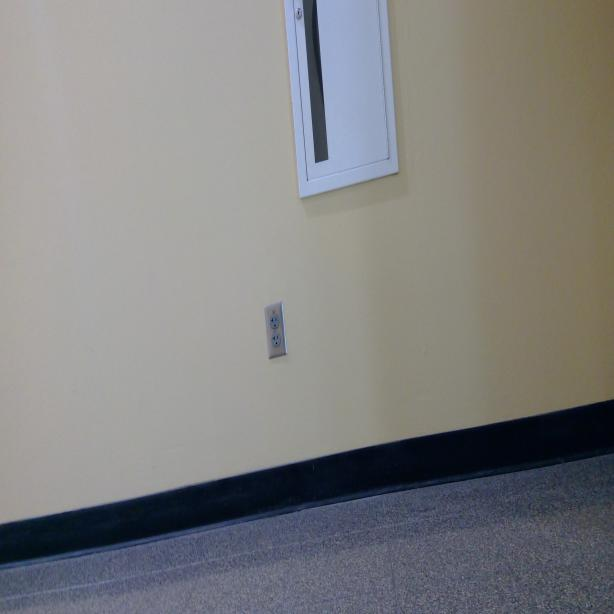typeb: (271, 332, 283, 347), (270, 313, 279, 329)
